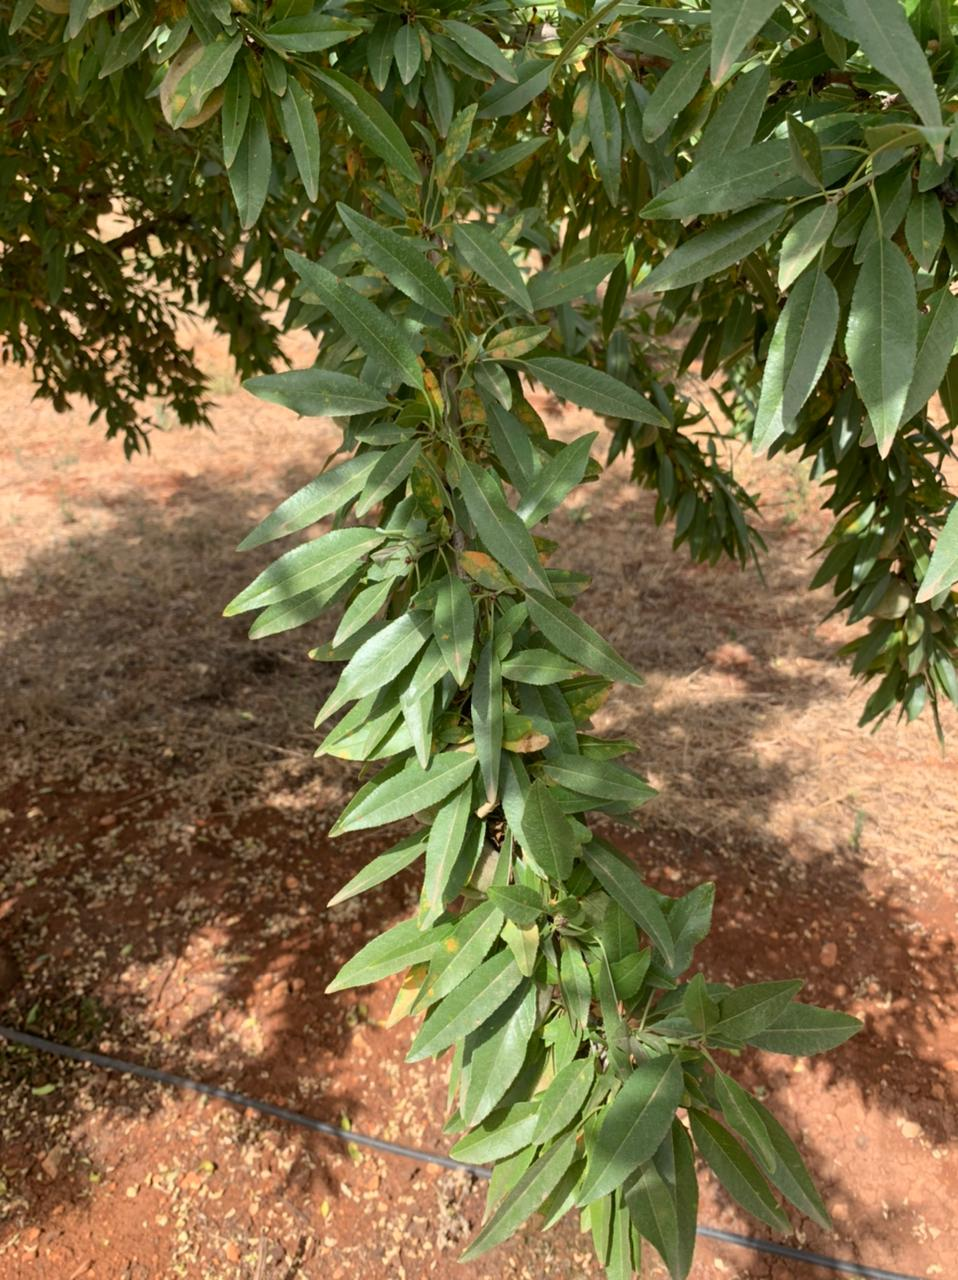polystigma: (405, 902, 502, 1014), (483, 326, 552, 371), (458, 548, 520, 595), (444, 100, 479, 173)
